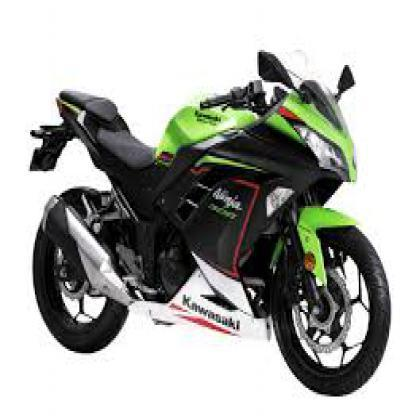Motorcycle: (23, 27, 393, 398)
